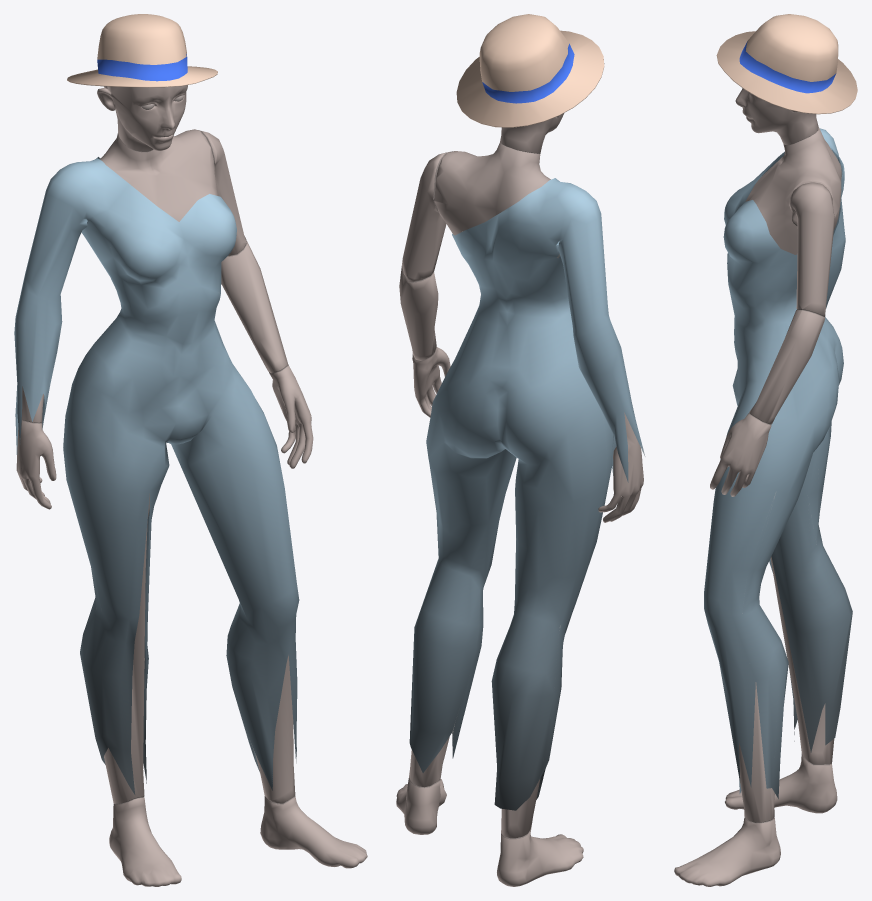
3 renders of one model, left to right at view 1: azimuth 30°, elevation 25°; view 2: azimuth 150°, elevation 25°; view 3: azimuth 270°, elevation 25°, orthographic. The views are drawn at different scales.
Visible parts, largest first — view 1: model, hat; view 2: model, hat; view 3: model, hat.
Part boxes in pixels (bbox=[...]): model: bbox=[14, 85, 367, 886]; hat: bbox=[67, 14, 217, 87]; model: bbox=[396, 113, 645, 886]; hat: bbox=[456, 14, 604, 127]; model: bbox=[674, 88, 852, 886]; hat: bbox=[716, 14, 857, 114].
Bounding box in the file's own units: 0.6827 × 1.88 × 0.3953.
Materials: 3 (3 with a texture image).
